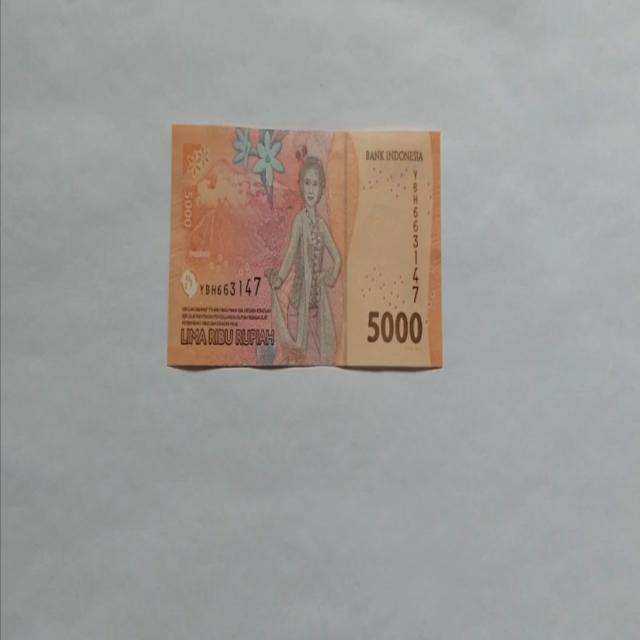lima ribu rupiah: (166, 122, 444, 370), (263, 154, 343, 366)
